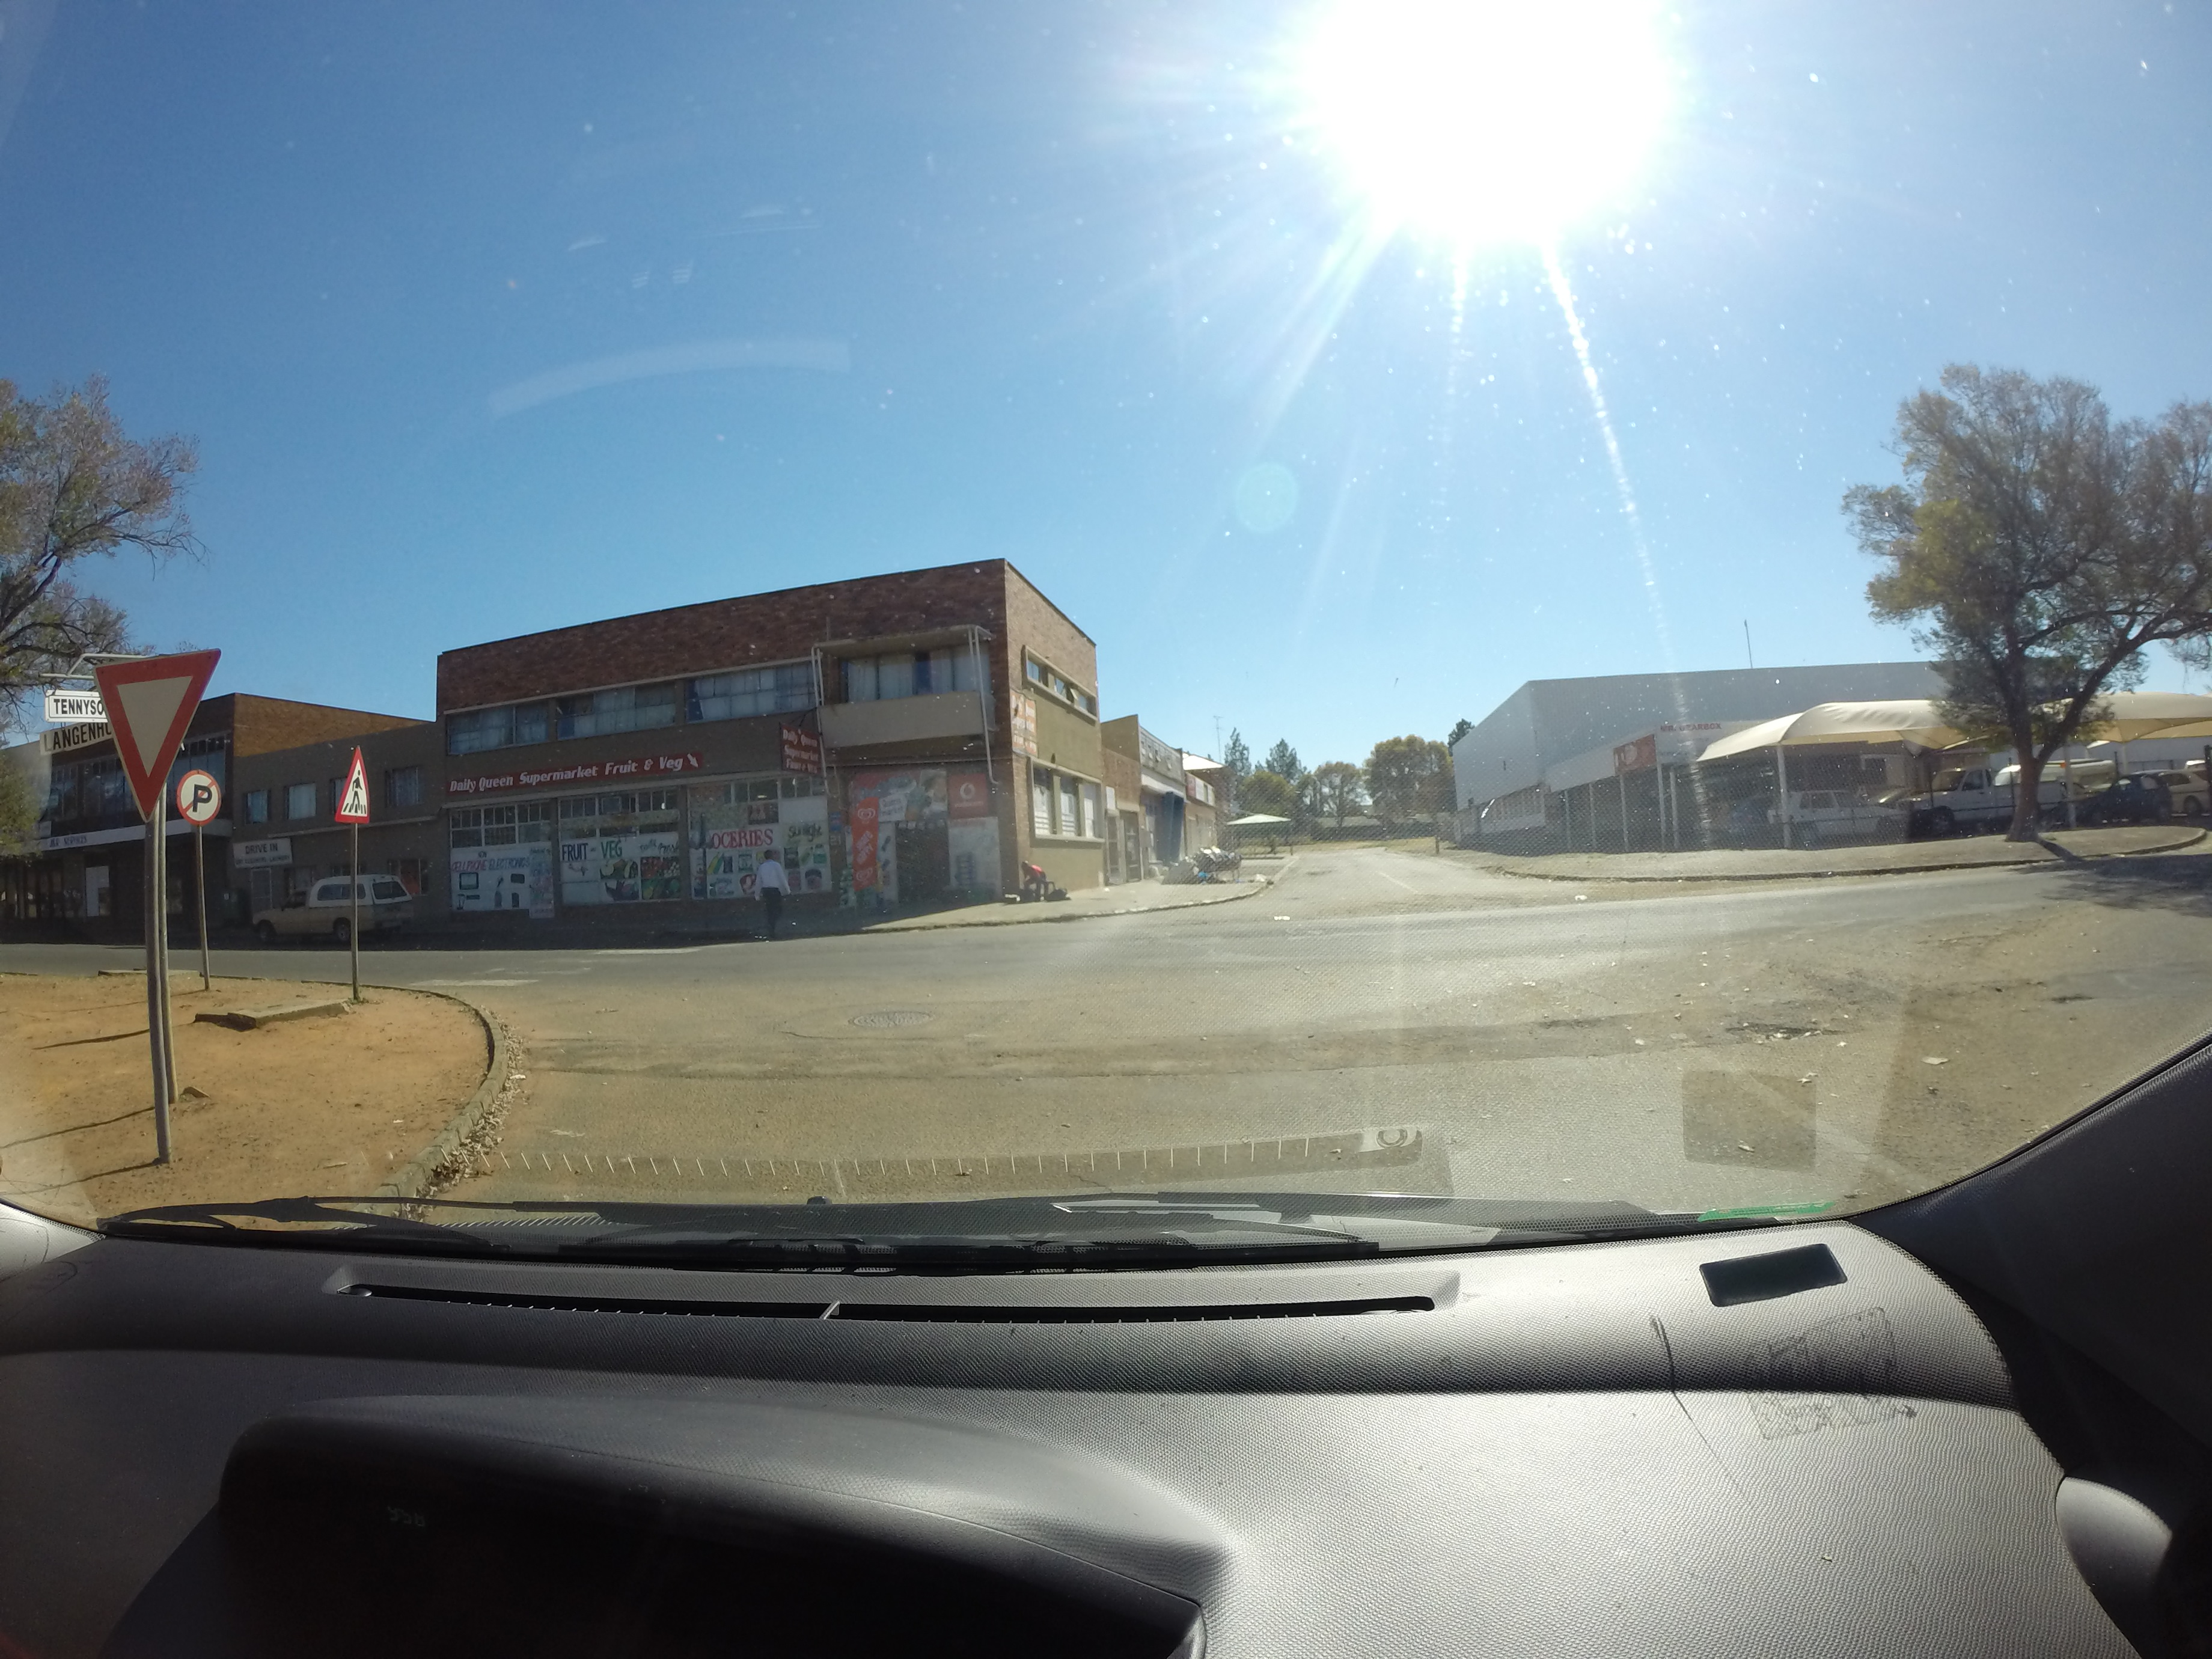pothole: (1517, 995, 1930, 1061)
